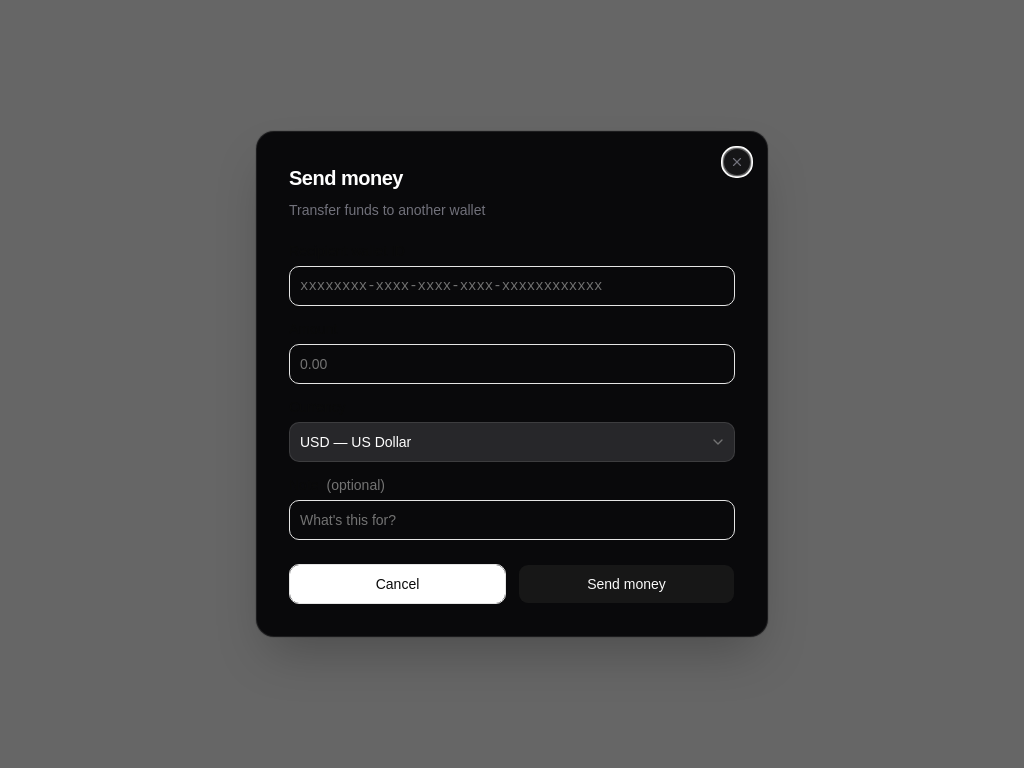
Test: SendMoneyModal — form validation › shows error when recipient wallet ID is not a valid UUID
The image size is (1024, 768).
Type "not-a-uuid" into the field labelled "Recipient wallet ID". click: (512, 286)
box: [289, 266, 735, 306]
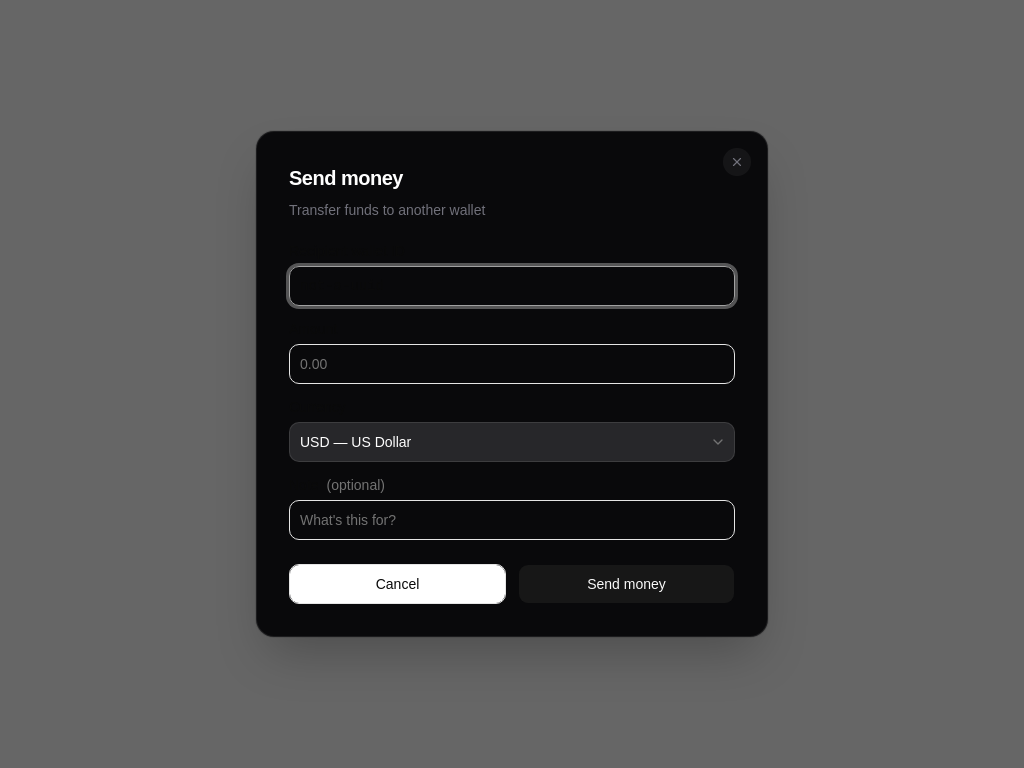
Type "10.00" into the field labelled "Amount". click: (512, 364)
box: [289, 344, 735, 384]
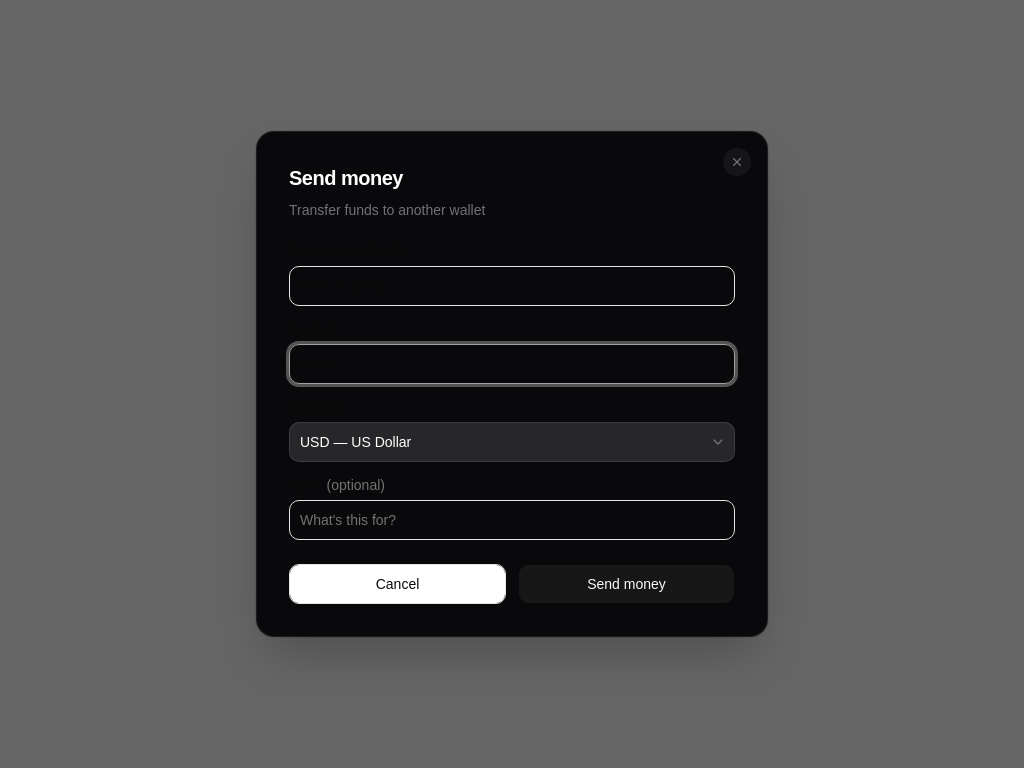
Click the button "Send money". click: (626, 584)
box: [518, 564, 735, 604]
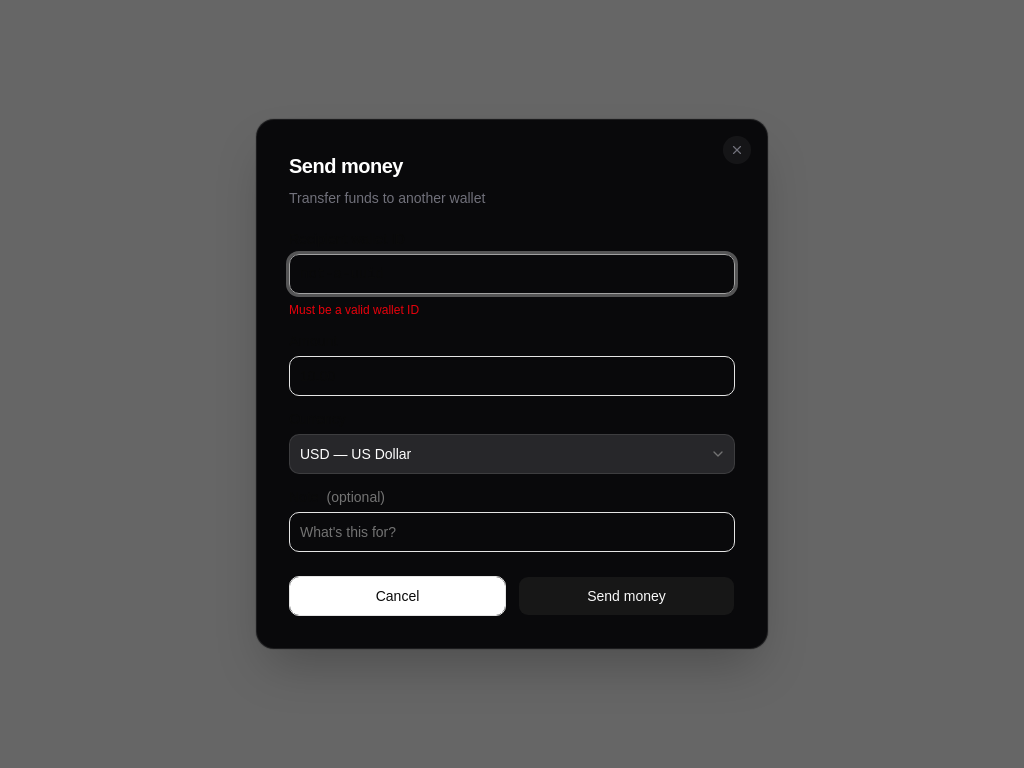
Expected: the text "Must be a valid wallet ID" is shown, [289, 303, 419, 317]
